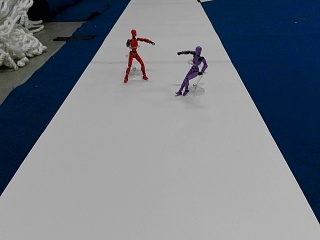pedestrian: (124, 29, 154, 82), (175, 45, 206, 95)
